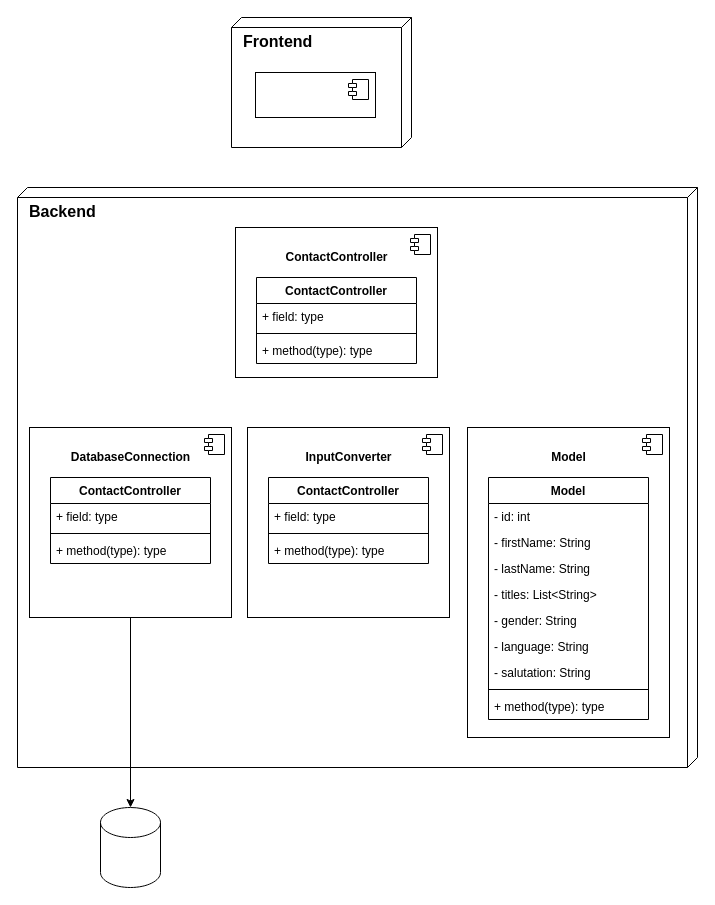
Some shapes in this 715 by 905 pixel diagram are drawn without their labels. The centre of each missing label's shape, as x and y in pixels:
Database Mock: the point at 130,847
View: the point at 315,95
